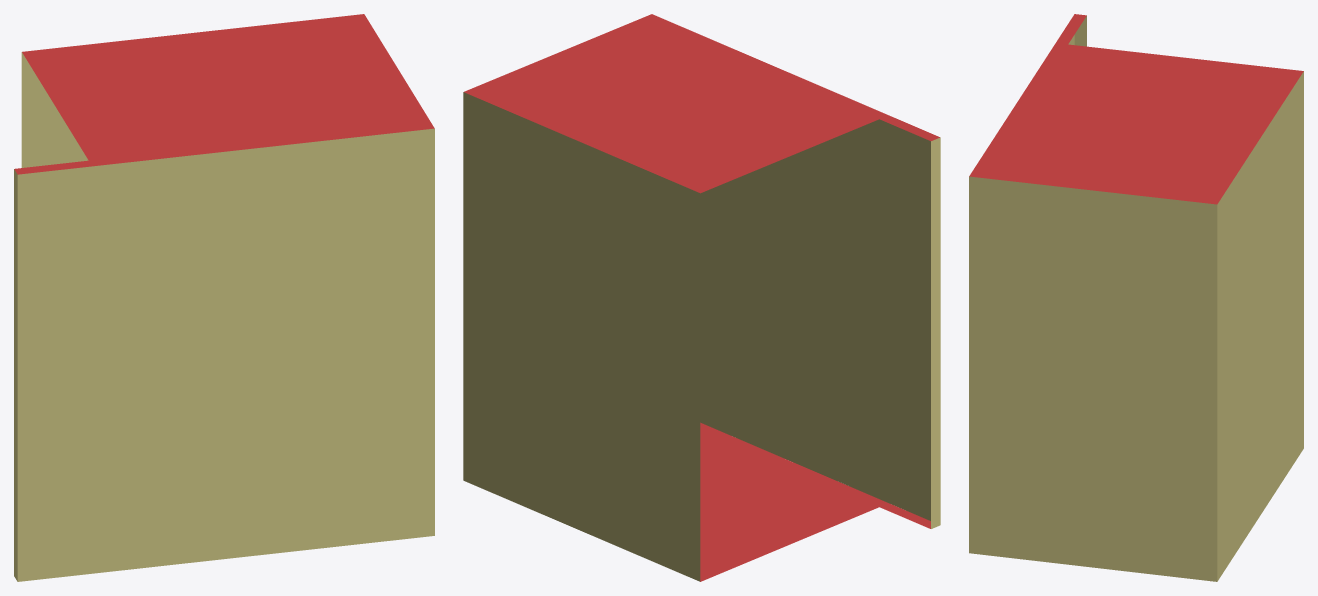
3 views of the same model, side by side, from view 1: azimuth 30°, elevation 25°; view 2: azimuth 150°, elevation 25°; view 3: azimuth 270°, elevation 25° (orthographic). The views are drawn at different scales.
Parts seen in each view (by area): view 1: group_4, group_3; view 2: group_4, group_3, group_5; view 3: group_4, group_3.
Part boxes in pixels (box(x1,y1,x2,y2)): group_4: box(14, 52, 434, 581); group_3: box(14, 14, 434, 174); group_4: box(463, 92, 940, 581); group_3: box(464, 14, 939, 193); group_5: box(700, 422, 930, 581); group_4: box(969, 16, 1303, 581); group_3: box(969, 14, 1303, 204).
Size of the model in its own units: 8.64 by 6.39 by 7.95.
